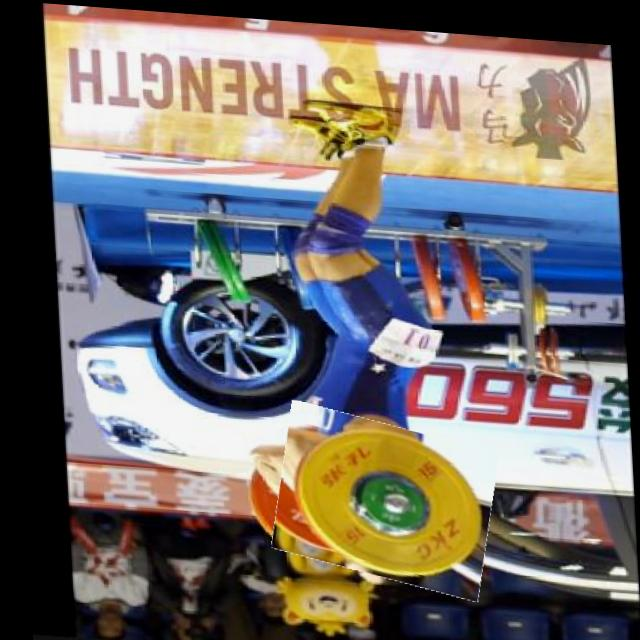barbell: (267, 405, 494, 588)
